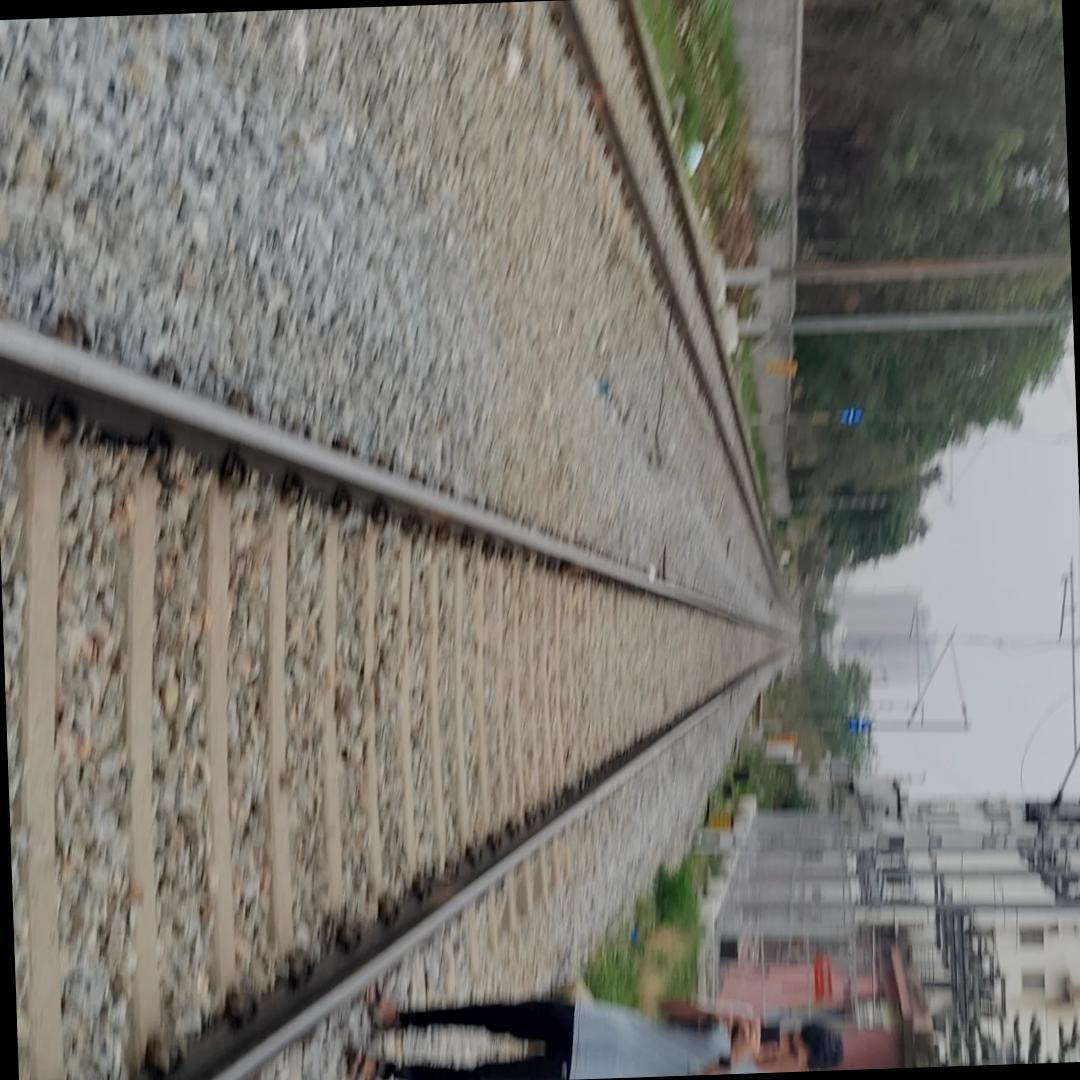standing: (329, 975, 861, 1080)
track: (0, 201, 807, 1080)
